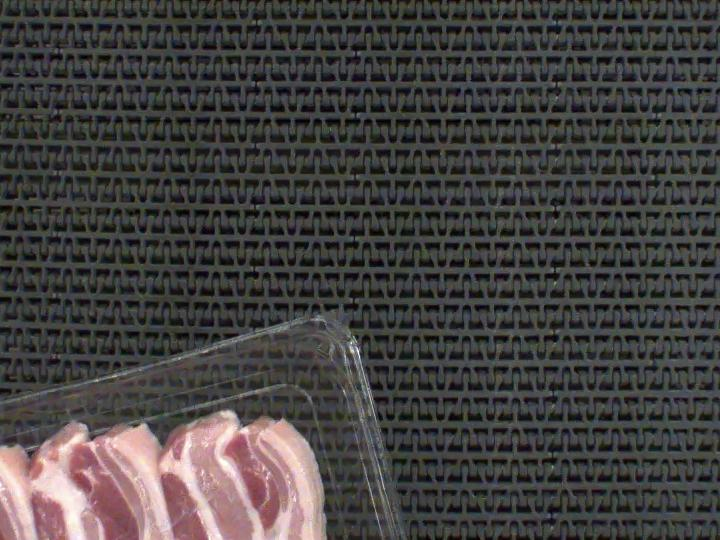wrinkle: (153, 476, 231, 538)
